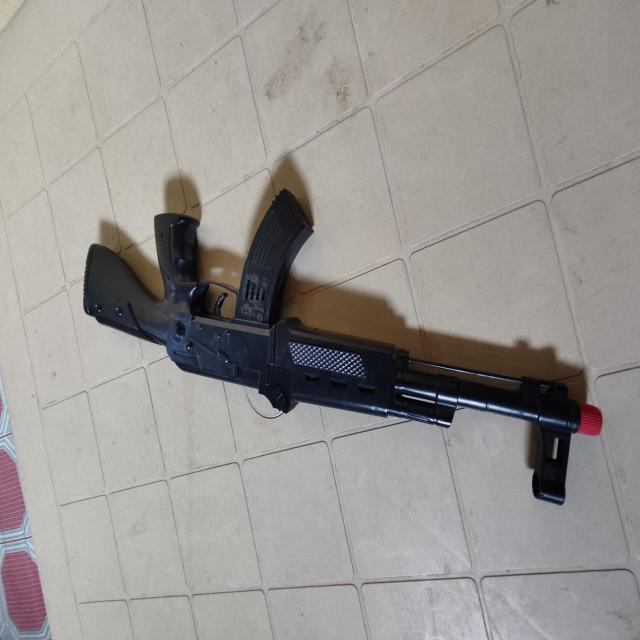rifle: (83, 192, 602, 505)
